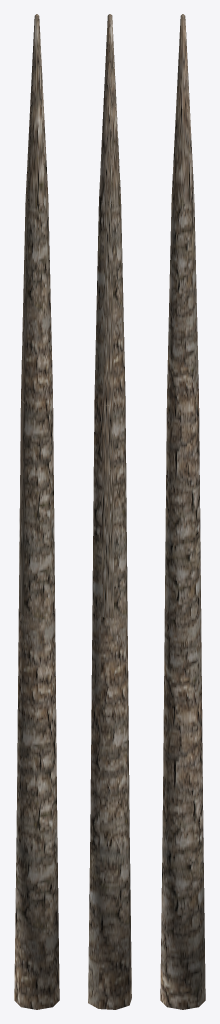
The model's file is Pine_Tree_02_Trunk.obj.
3 renders of one model, left to right at view 1: azimuth 90°, elevation 25°; view 2: azimuth 150°, elevation 25°; view 3: azimuth 270°, elevation 25°, orthographic.
Visible parts, largest first — view 1: Trunk.002_Circle.001; view 2: Trunk.002_Circle.001; view 3: Trunk.002_Circle.001.
Boxes of the visible parts, <box> form: Trunk.002_Circle.001: <box>14,14,59,1009</box>; Trunk.002_Circle.001: <box>88,14,131,1009</box>; Trunk.002_Circle.001: <box>160,14,205,1009</box>.
Size of the model in its own units: 0.3221 by 7.74 by 0.3221.
1 material, 1 textured.
